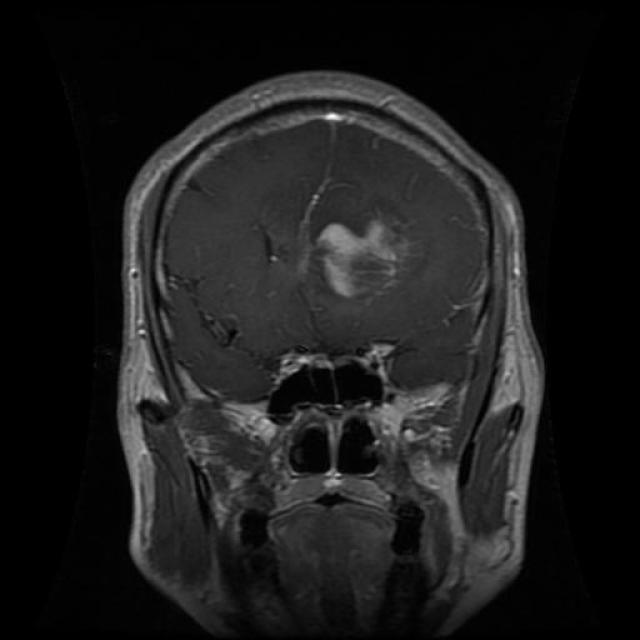glioma: (299, 212, 430, 308)
